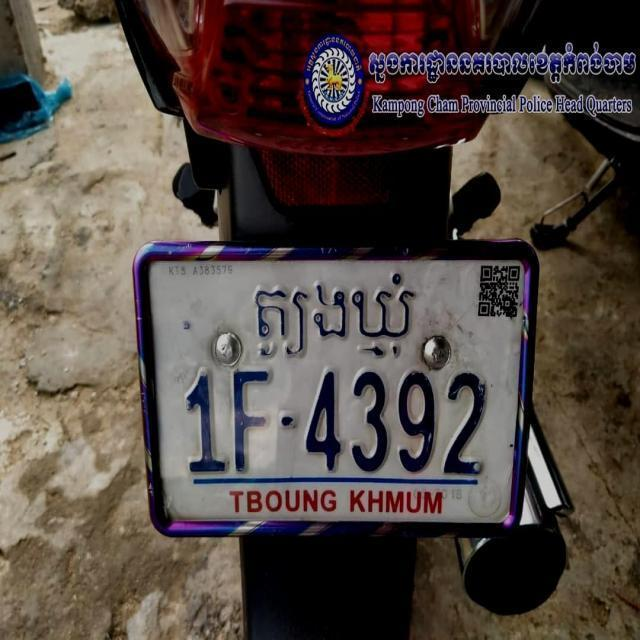Tboung_Khmum: (247, 268, 420, 368)
